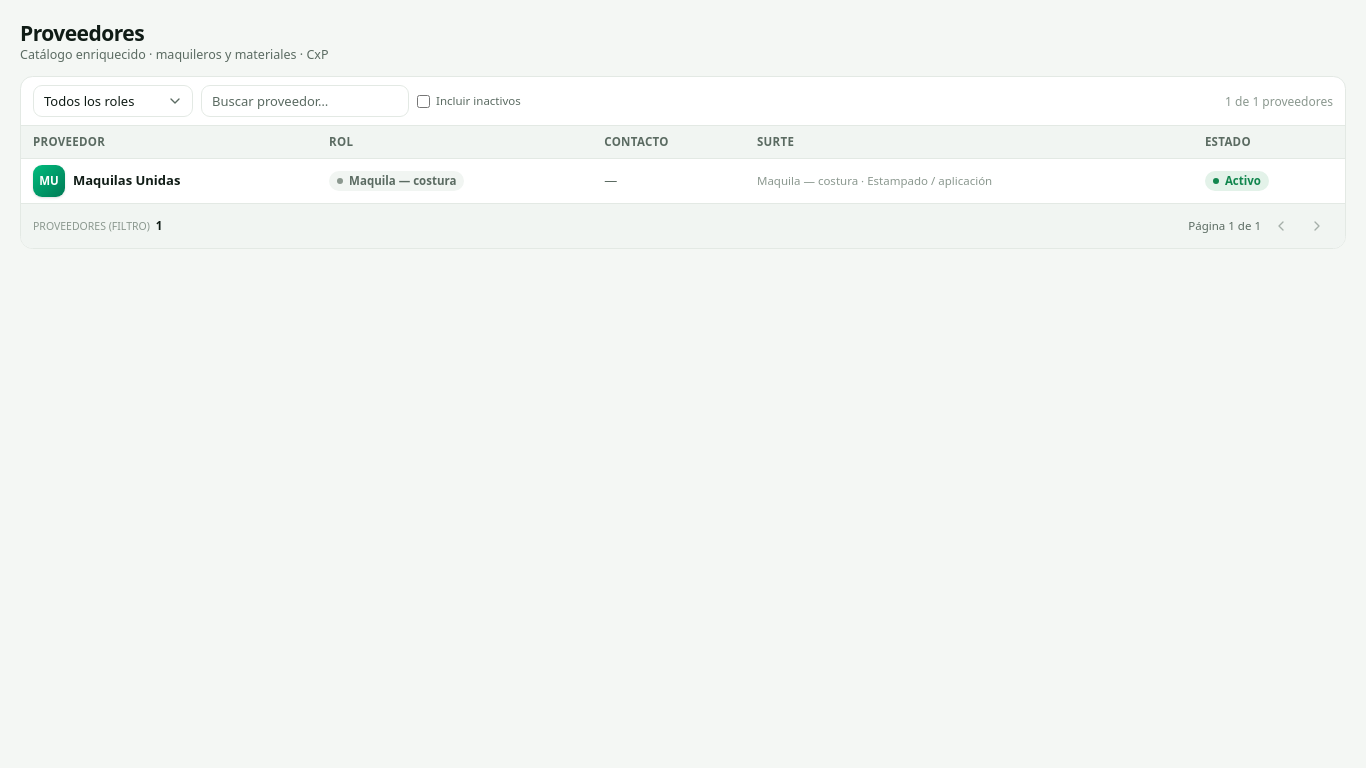
Test case: <ProveedoresPagina> › muestra los roles del proveedor como chips en el detalle
The width and height of the screenshot is (1366, 768).
What coordinates should you click on to do the following:
click the row with test id "fila-proveedor"
I would click on:
 (49, 181)
Its box is x1=21 y1=158 x2=1345 y2=203.
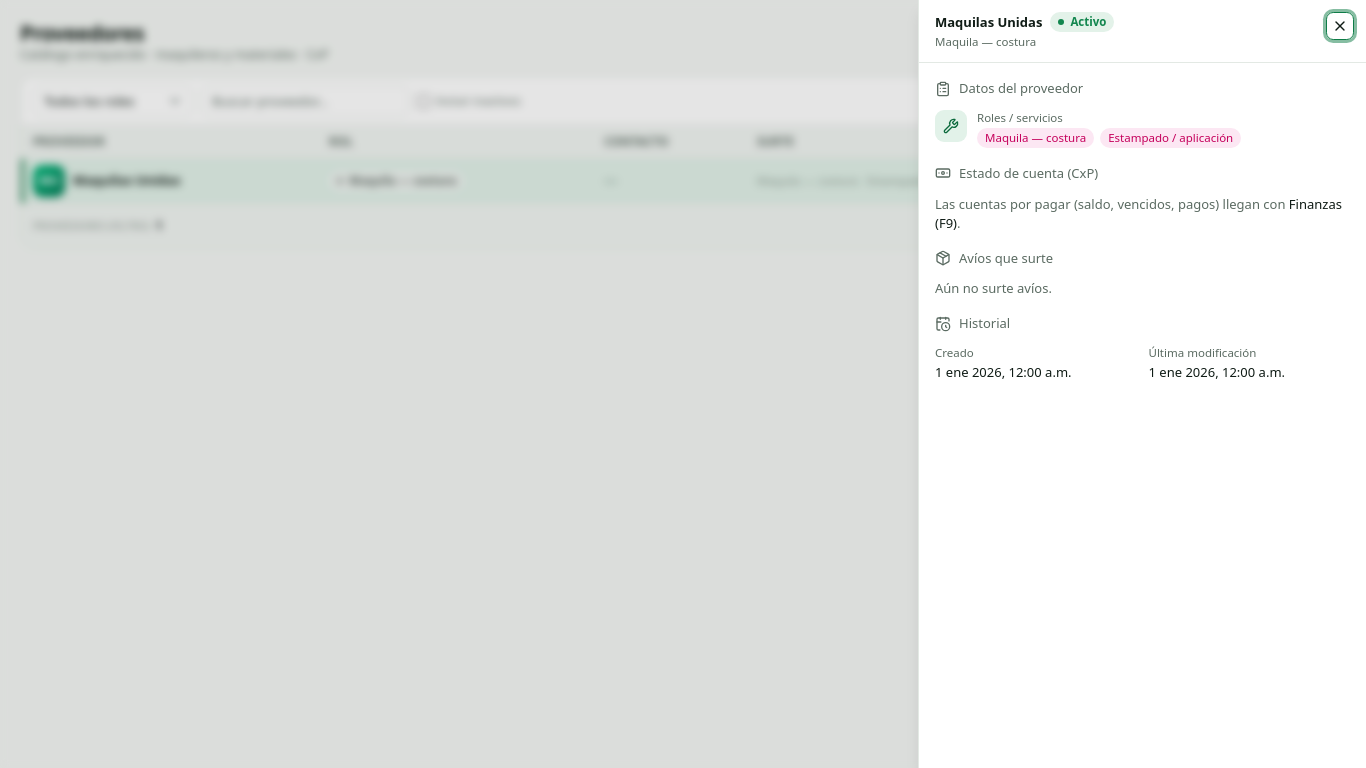
Expected: the text "Maquila — costura" below "Roles / servicios" is shown, x1=985 y1=130 x2=1086 y2=145
Expected: the text "Estampado / aplicación" is shown, x1=1100 y1=128 x2=1241 y2=148
